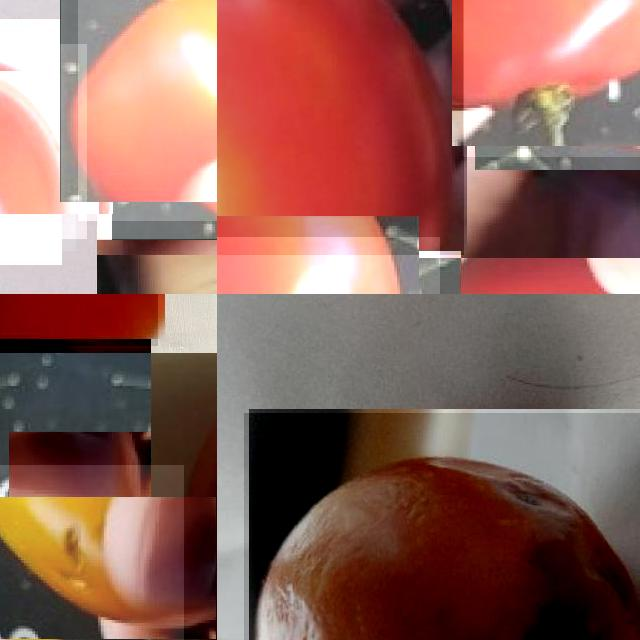0: (78, 0, 217, 221), (0, 44, 87, 239)
1: (244, 413, 640, 640)
Fresh Tomato: (217, 0, 464, 254), (463, 0, 640, 157), (151, 353, 217, 640), (217, 237, 440, 294)
Rotten Tomato: (0, 464, 183, 640)
